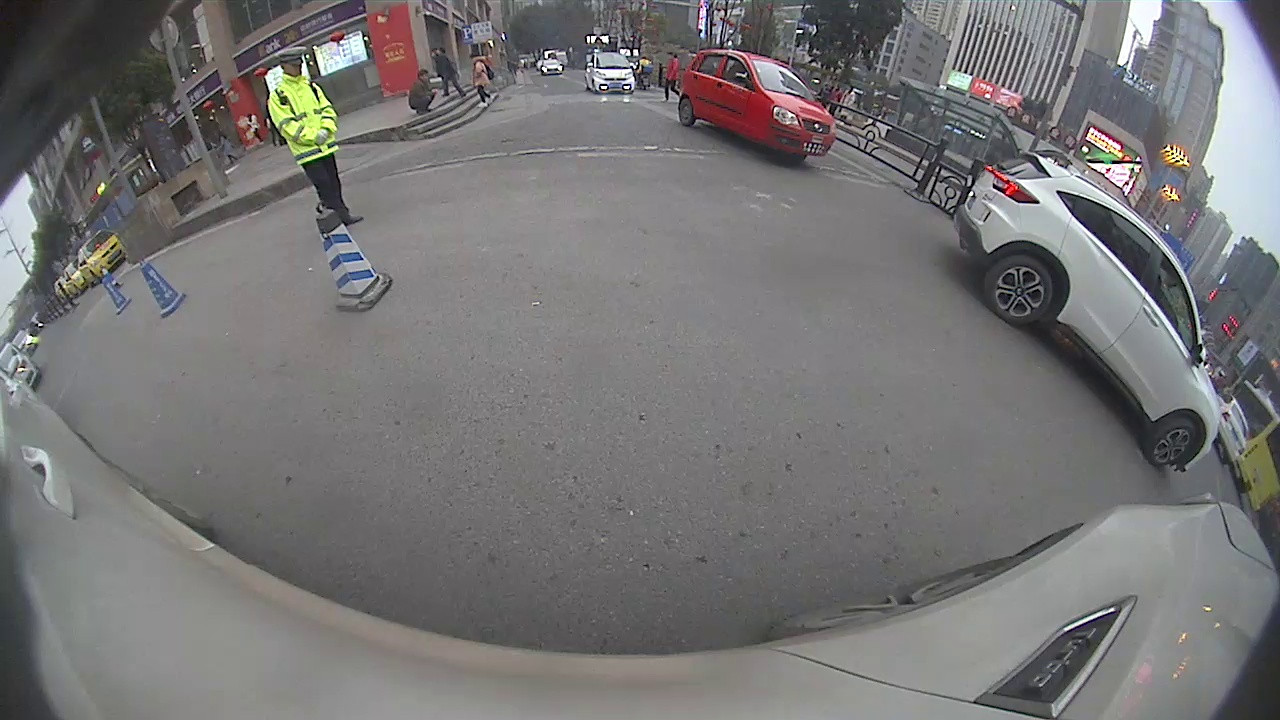car: (953, 164, 1222, 473), (679, 47, 836, 168), (583, 50, 636, 96)
front: (1144, 415, 1199, 471)
person: (269, 53, 357, 226), (469, 53, 495, 110), (406, 71, 436, 114), (431, 47, 454, 100)
rear: (982, 249, 1053, 327), (678, 98, 694, 127)
